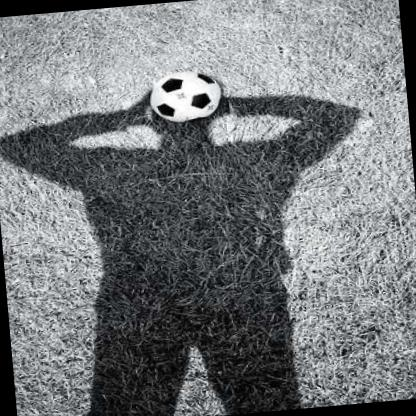ball: (150, 70, 223, 124)
